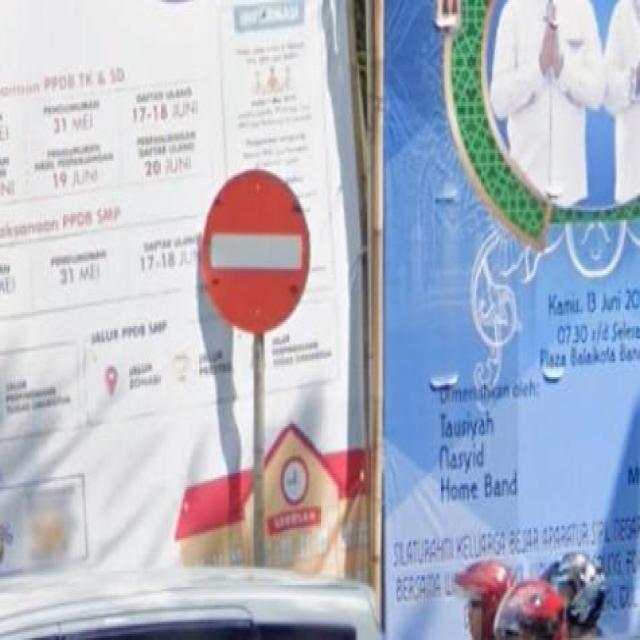traffic sign: (199, 167, 306, 336)
